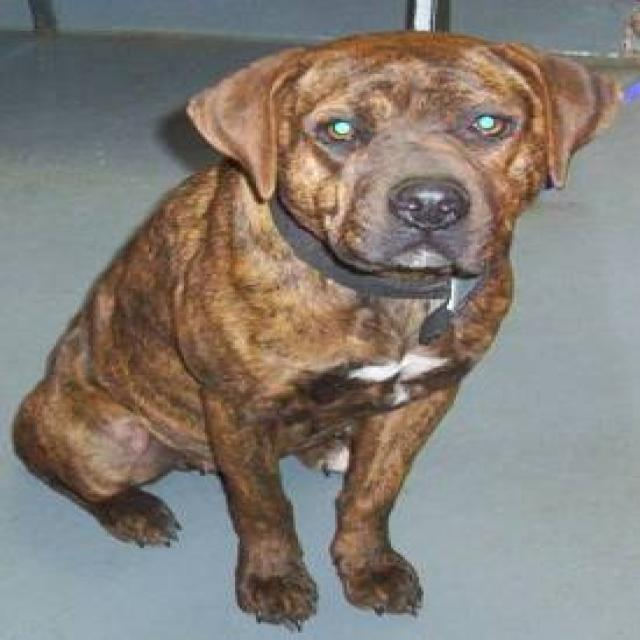sad: (134, 28, 640, 640)
